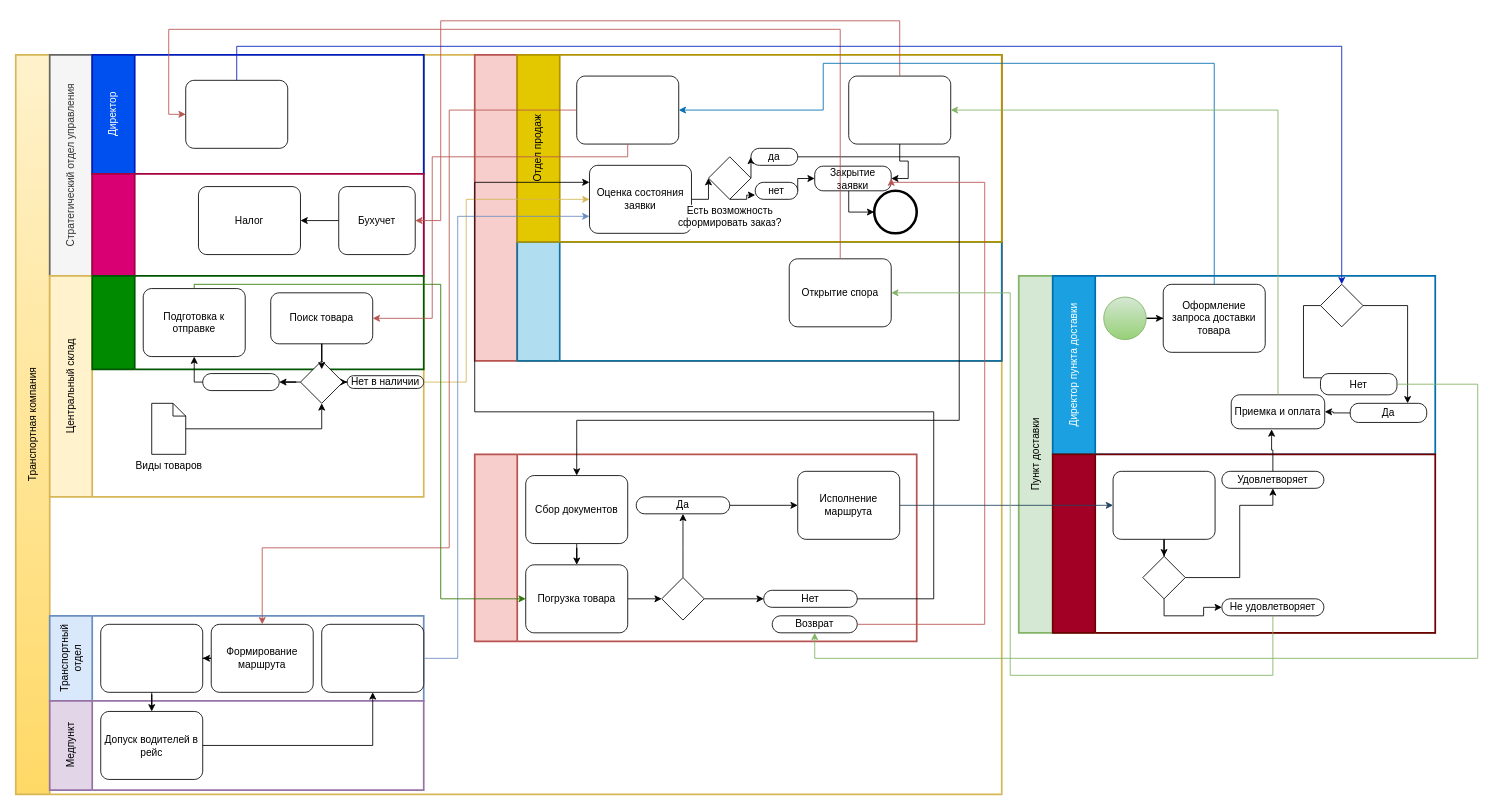
Image size: 1499x810. Some labels were removed from this diagram. Here are the shapes that lost their labels. From the top down, the box of each, then its label:
(185, 79, 288, 148): Решение по спору
(576, 75, 679, 144): Предварительная обработка заказа
(848, 75, 951, 144): Оформление продажи
(91, 173, 424, 276): Бухгалтерия
(473, 54, 1002, 361): Клиентский отдел
(516, 241, 1002, 361): Диспетчер
(1320, 283, 1363, 327): Решение по спору удовлетворено?
(91, 275, 424, 370): Кладовщик
(202, 373, 279, 391): Есть в наличии
(300, 360, 343, 403): есть на складе?
(1112, 470, 1215, 539): Доставка
(473, 453, 917, 642): Эксплуатационный отдел
(1051, 453, 1436, 633): Приемка товара
(1142, 555, 1185, 599): Проверка товара
(661, 577, 704, 620): Все в порядке?
(100, 623, 203, 692): Назначение исполнителя
(321, 623, 424, 692): Отчет о плане доставки
